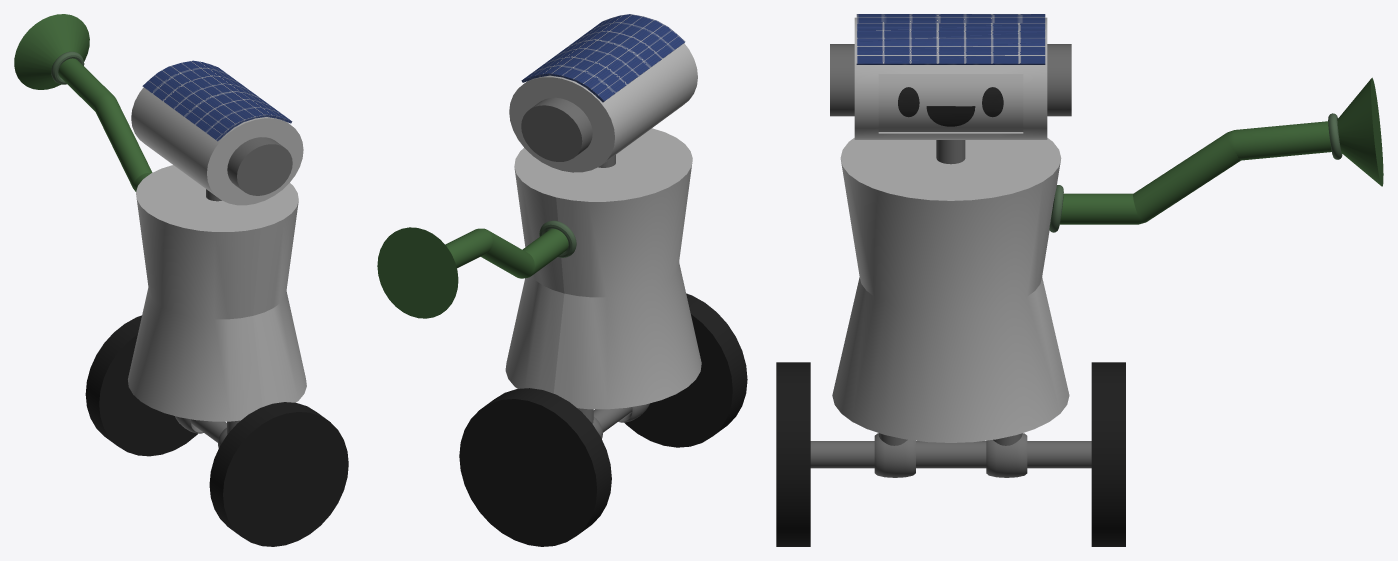
File: robot.gltf
The picture shows the model from 3 angles, left to right: view 1: azimuth 30°, elevation 25°; view 2: azimuth 150°, elevation 25°; view 3: azimuth 270°, elevation 25°; orthographic projection. The views are drawn at different scales.
Visible parts, largest first — view 1: robot, robot_arm; view 2: robot, robot_arm; view 3: robot, robot_arm.
Part boxes in pixels (x1=…): robot: x1=85, y1=60, x2=348, y2=546; robot_arm: x1=14, y1=14, x2=152, y2=191; robot: x1=459, y1=14, x2=747, y2=546; robot_arm: x1=377, y1=220, x2=576, y2=318; robot: x1=776, y1=14, x2=1125, y2=546; robot_arm: x1=1049, y1=77, x2=1383, y2=232.
Bounding box in the file's own units: 3.42 × 8.63 × 9.21.
Materials: 7 (1 with a texture image).
